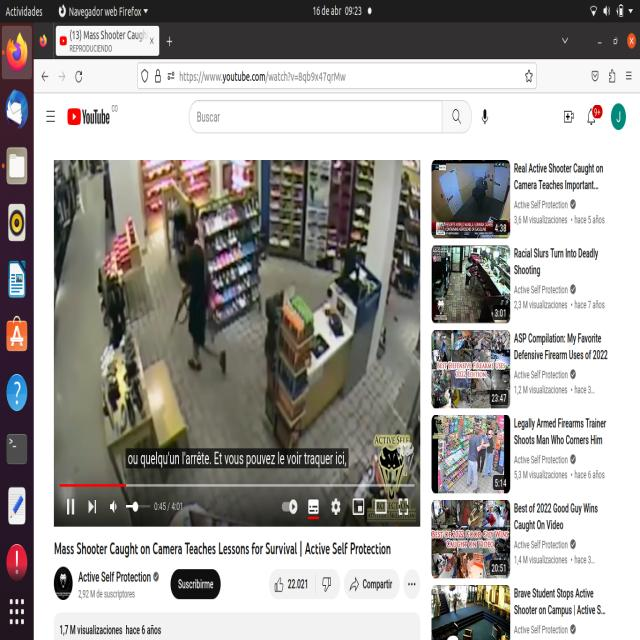Rifle: (171, 278, 194, 340)
